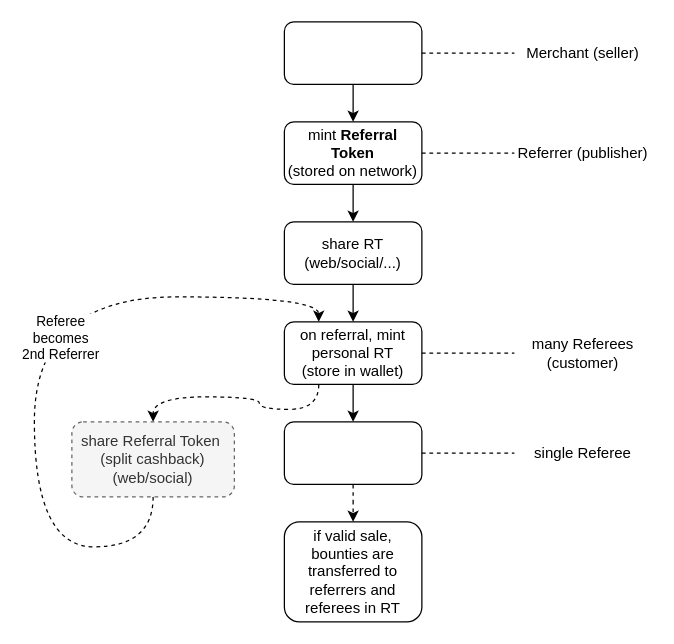
Some shapes in this 674 by 644 pixel diagram are drawn without their labels. Each missing label, with the box of its shape:
on convert (sale) publish RT + TxProof to network: (283, 421, 422, 484)
register Referrable on the network: (283, 21, 422, 84)
